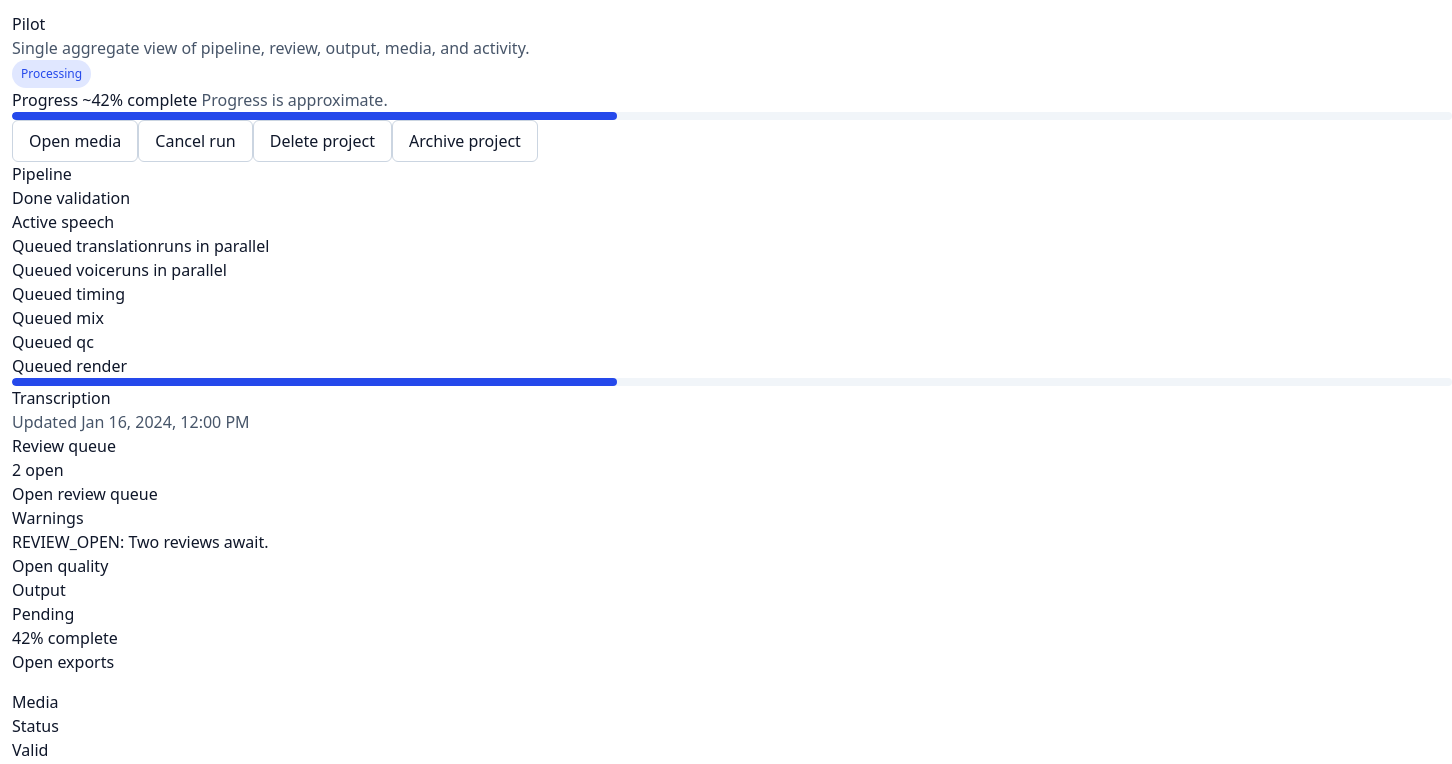
Test: archive mutation failure (recovery: retry the action) › surfaces a blocking archive failure with its support reference and stays on the page
Check: the element with test id "workspace-actions" is shown, box [12, 120, 538, 162]
Click the button with test id "workspace-action-archive" at (465, 141), box [392, 120, 538, 162]
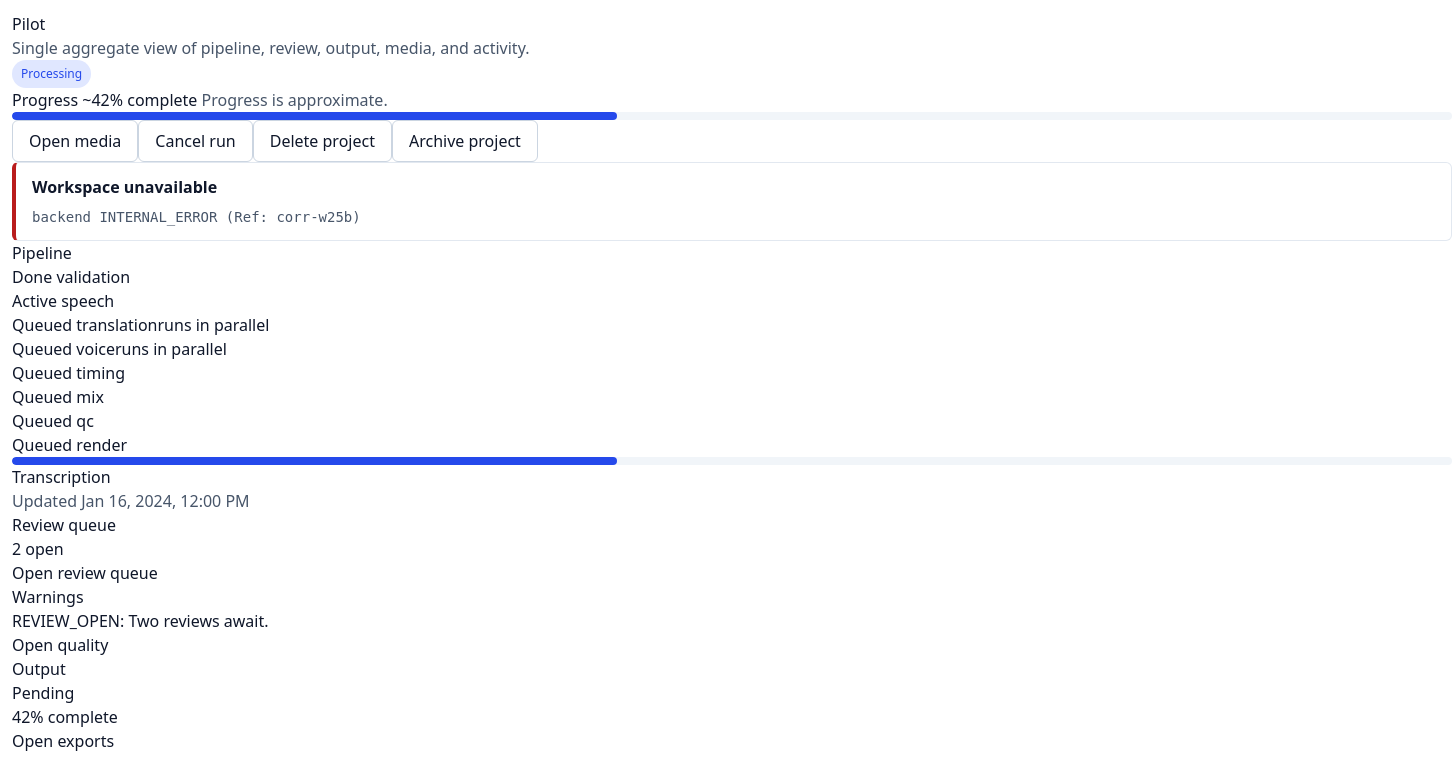
Check: the element with test id "workspace-action-error" shows "backend INTERNAL_ERROR", box [32, 209, 361, 225]
Check: the element with test id "workspace-action-error" shows "Ref: corr-w25b", box [32, 209, 361, 225]
Click the button with test id "workspace-action-archive" at (465, 141), box [392, 120, 538, 162]
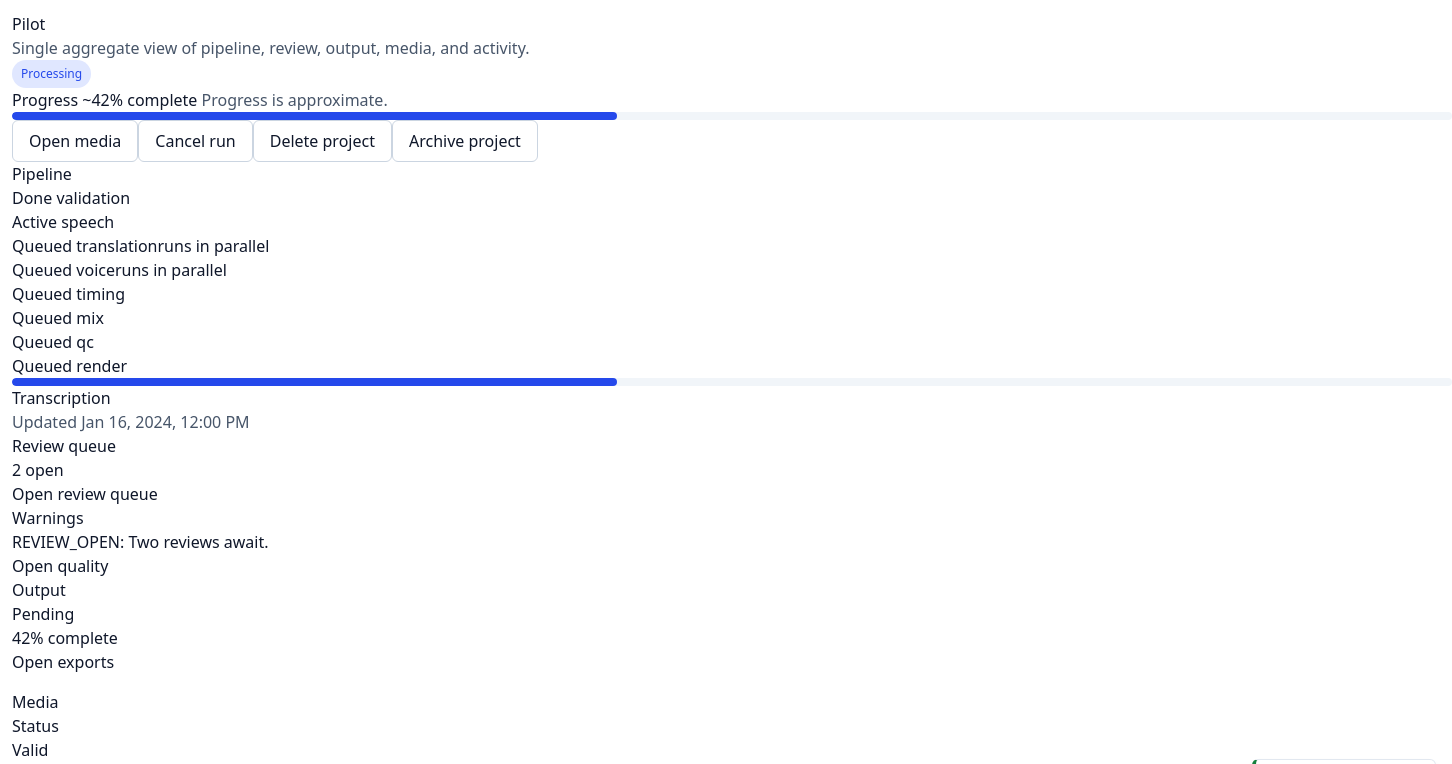
Check: the element with test id "workspace-action-error" is gone
